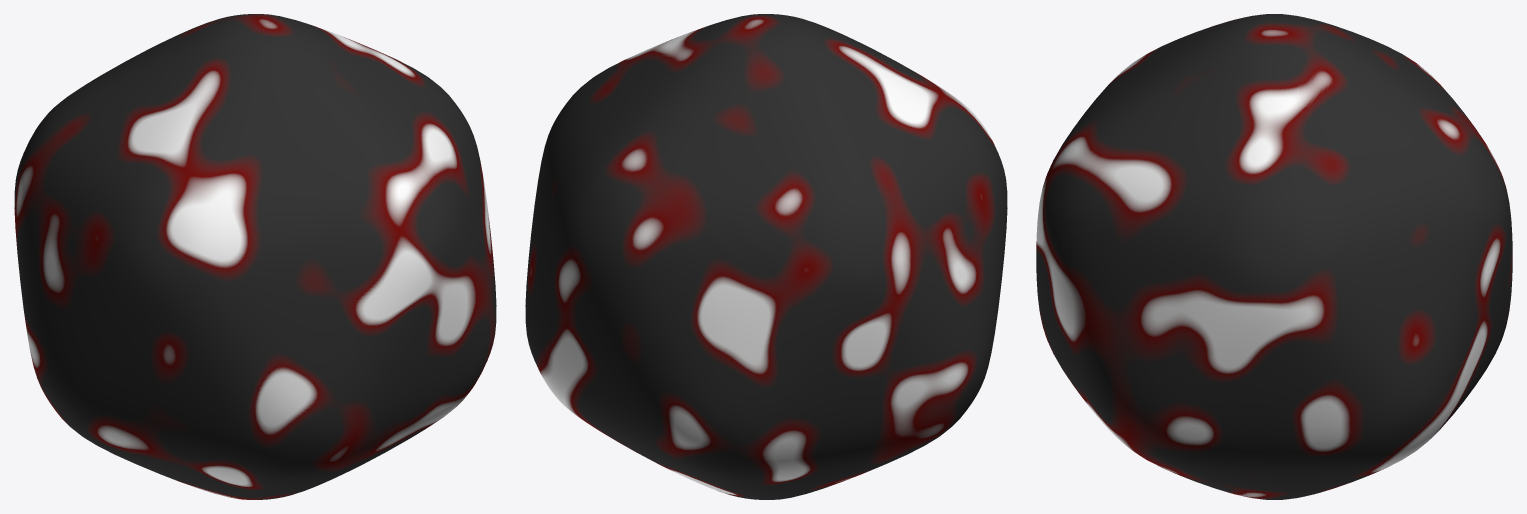
Rendered from first.glb.
The picture shows the model from 3 angles, left to right: view 1: azimuth 30°, elevation 25°; view 2: azimuth 150°, elevation 25°; view 3: azimuth 270°, elevation 25°; orthographic projection.
Parts seen in each view (by area): view 1: Icosphere; view 2: Icosphere; view 3: Icosphere.
Part boxes in pixels (box(x1,y1,x2,y2)): Icosphere: box(14, 14, 496, 499); Icosphere: box(525, 14, 1007, 499); Icosphere: box(1036, 14, 1512, 499).
Bounding box in the file's own units: 1.64 × 1.72 × 1.61.
1 material, 1 textured.
